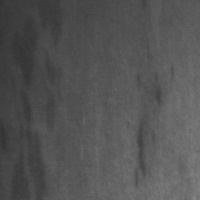inclusion: (1, 68, 43, 198), (126, 65, 166, 198), (39, 11, 69, 133)
